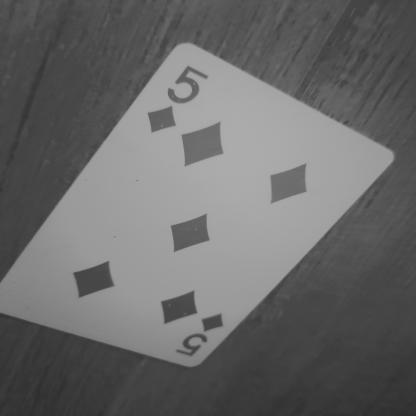5D: (139, 66, 221, 142), (165, 305, 235, 364)
